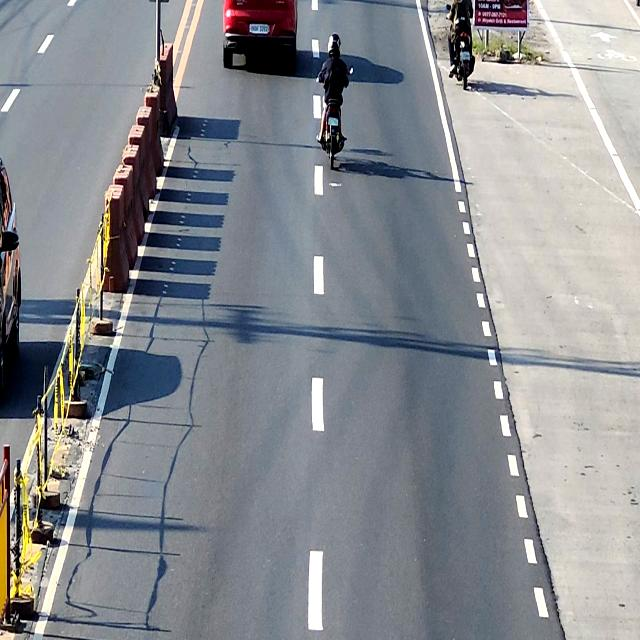Car: (222, 0, 299, 71), (0, 160, 21, 408)
License-Plate: (249, 23, 269, 34), (328, 116, 339, 128), (459, 52, 470, 61)
Motorcycle: (318, 65, 352, 168), (447, 5, 474, 90)
